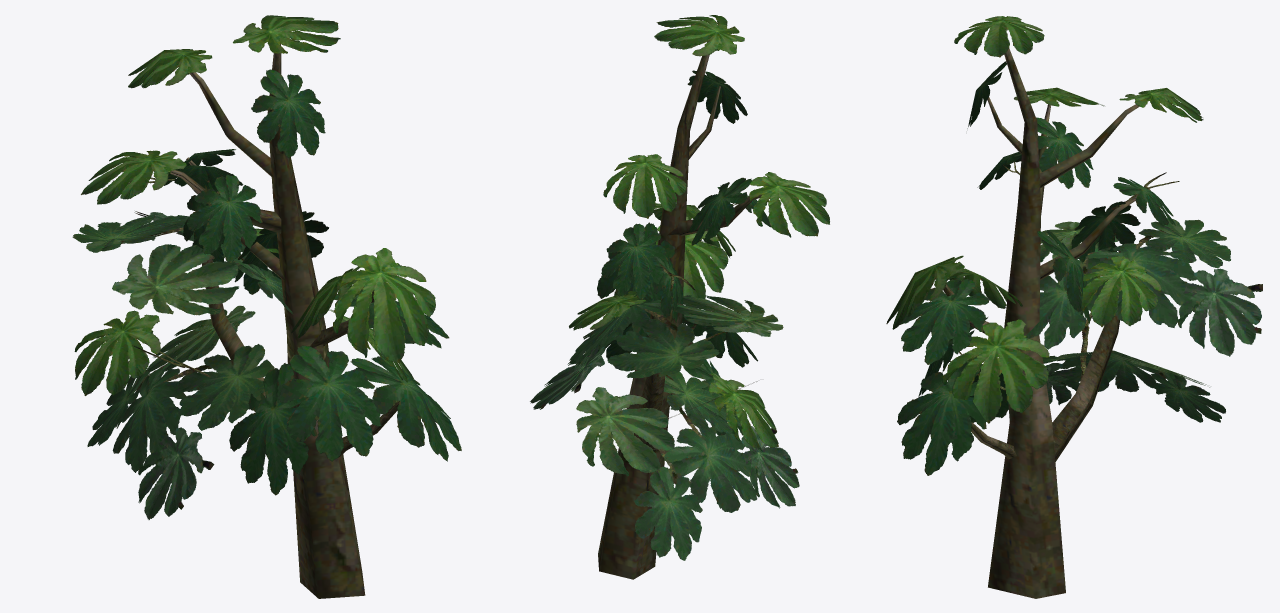
Rendered from guanmu_01.FBX.
The picture shows the model from 3 angles, left to right: view 1: azimuth 30°, elevation 25°; view 2: azimuth 150°, elevation 25°; view 3: azimuth 270°, elevation 25°; orthographic projection. The views are drawn at different scales.
Parts seen in each view (by area): view 1: guanmu_01_02, guanmu_01_01; view 2: guanmu_01_02, guanmu_01_01; view 3: guanmu_01_02, guanmu_01_01.
Boxes of the visible parts, box(x1,y1,x2,y2) form: guanmu_01_02: box(74, 15, 461, 598); guanmu_01_01: box(72, 211, 293, 519); guanmu_01_02: box(569, 15, 829, 579); guanmu_01_01: box(530, 295, 799, 560); guanmu_01_02: box(886, 16, 1203, 598); guanmu_01_01: box(1026, 218, 1262, 422).
Bounding box in the file's own units: 2.15 × 3.67 × 2.35.
